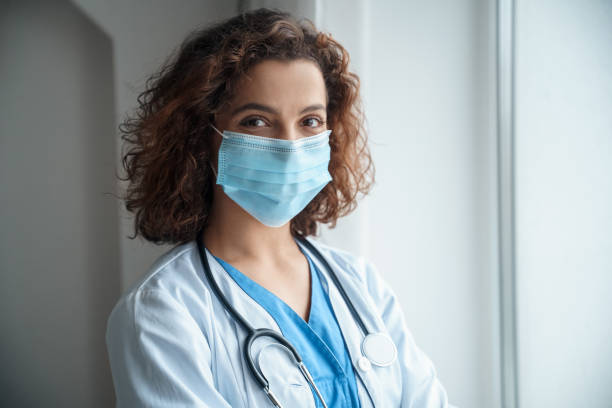with mask: (211, 52, 339, 225)
